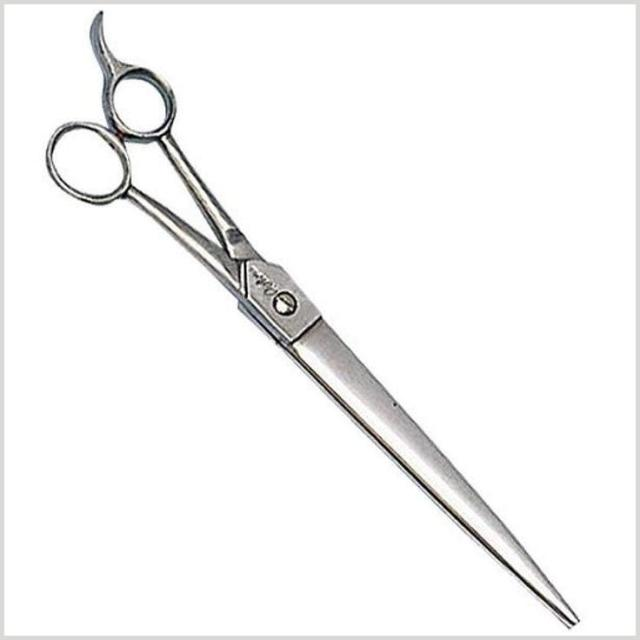Gunting: (38, 2, 588, 632)
